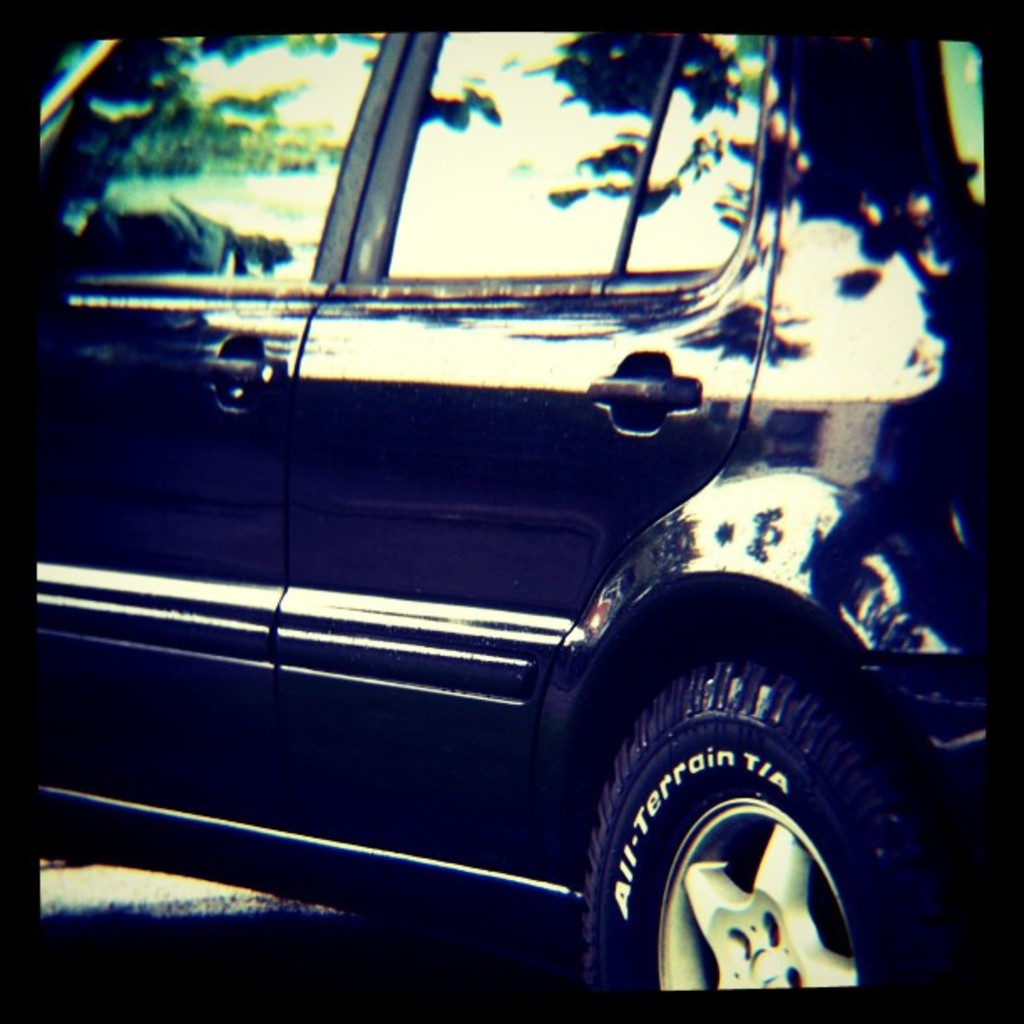Car: (33, 31, 987, 982)
